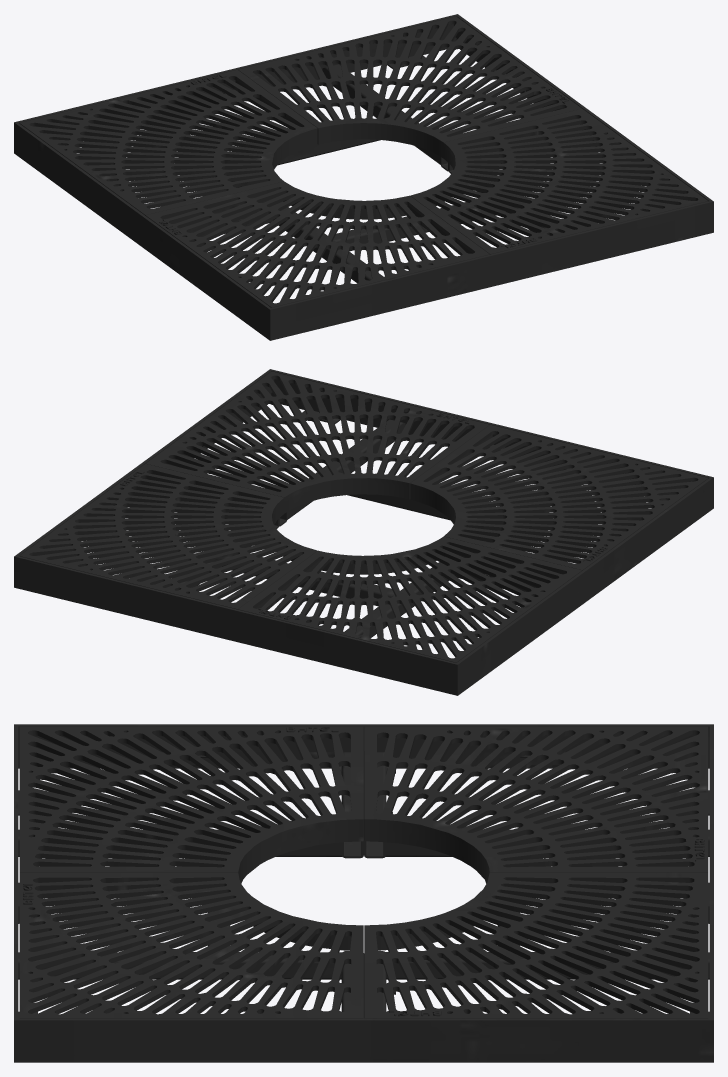
File: tree-grate-and-frame.glb
3 views of the same model, one above another, from view 1: azimuth 30°, elevation 25°; view 2: azimuth 150°, elevation 25°; view 3: azimuth 270°, elevation 25° (orthographic). The views are drawn at different scales.
Visible parts, largest first — view 1: NAUO6_high; view 2: NAUO6_high; view 3: NAUO6_high.
Boxes of the visible parts, x1,y1,x2,y2 form: NAUO6_high: (14, 14, 713, 340); NAUO6_high: (14, 369, 713, 695); NAUO6_high: (14, 724, 713, 1062).
Size of the model in its own units: 1.26 by 0.087 by 1.26.
Materials: 1 (1 with a texture image).
